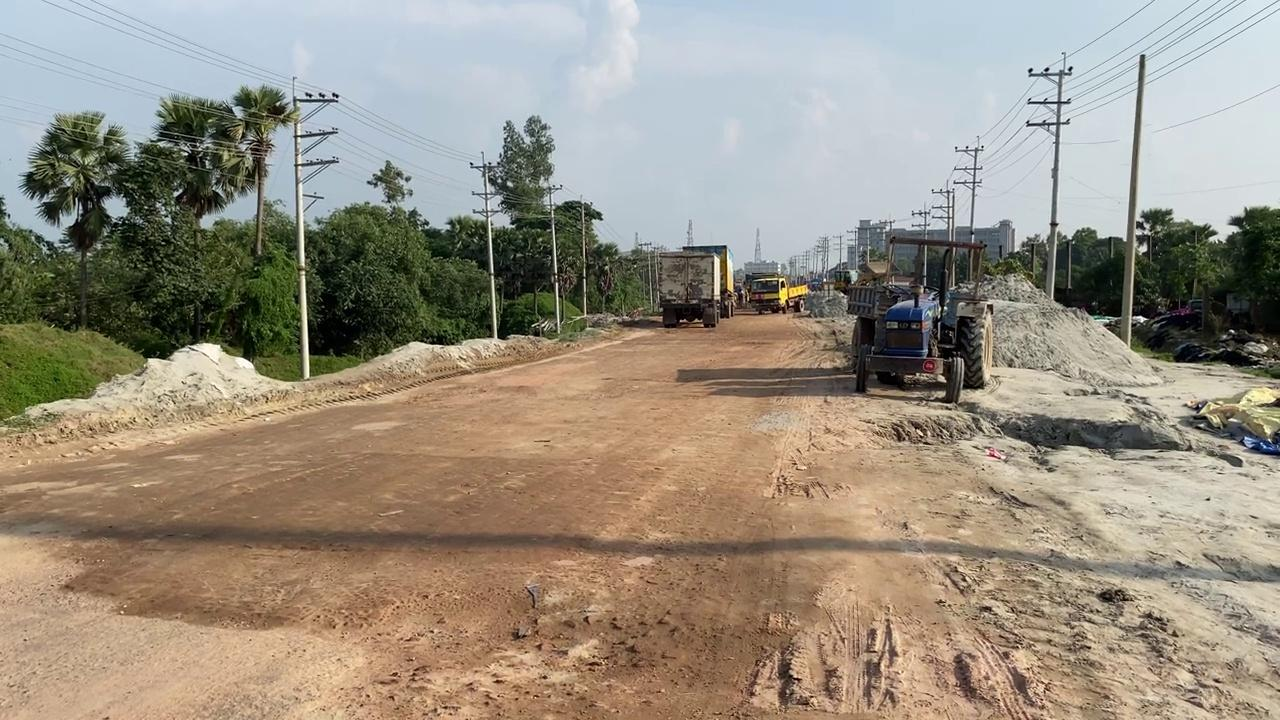Pole: (290, 75, 340, 379), (1119, 53, 1146, 347), (291, 76, 310, 379)
Traffic-sign: (139, 91, 247, 344), (18, 108, 130, 329)
Tree: (846, 234, 995, 404), (656, 250, 721, 328), (680, 244, 737, 318), (744, 272, 810, 314), (821, 263, 856, 294), (785, 283, 809, 312), (832, 268, 852, 293)
